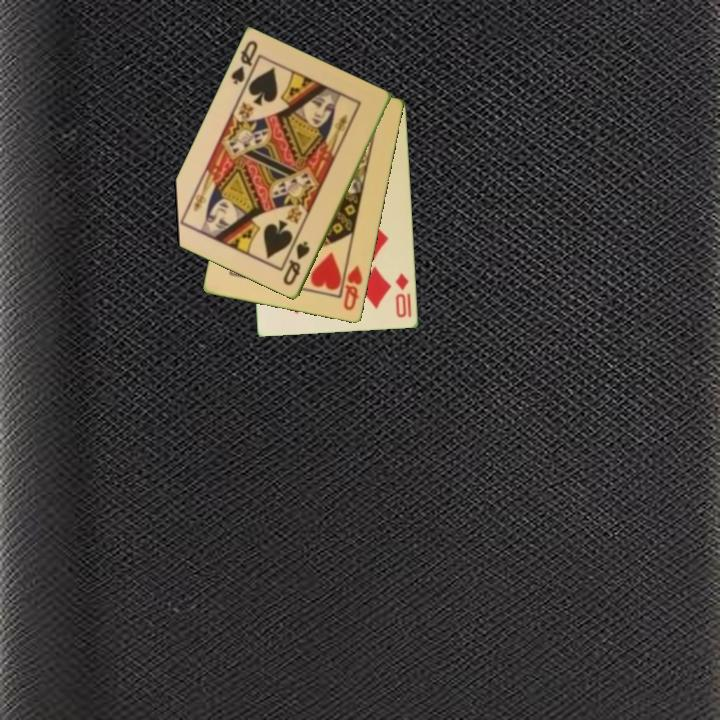10d: (392, 270, 412, 321)
Qh: (340, 262, 366, 314)
Qs: (227, 37, 261, 88), (280, 238, 313, 289)
